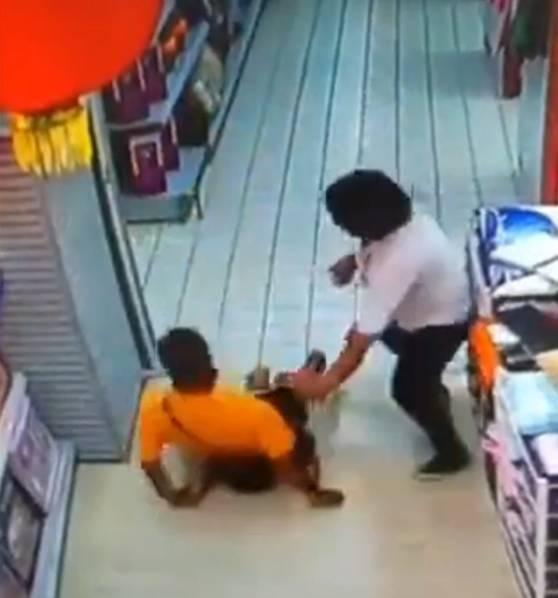Fall-Detected: (129, 319, 350, 512)
